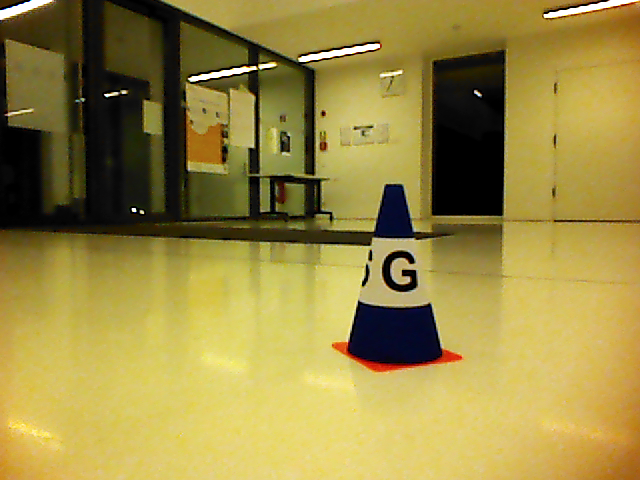bluecone: (347, 182, 441, 366)
